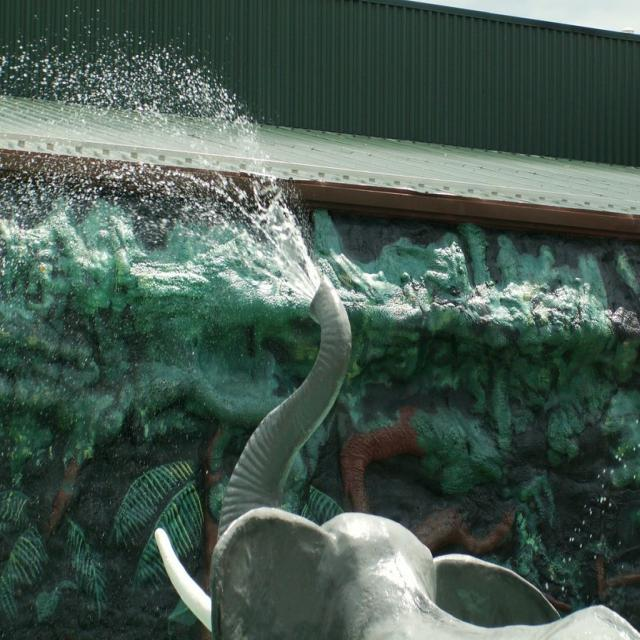elephant: (153, 276, 639, 639)
